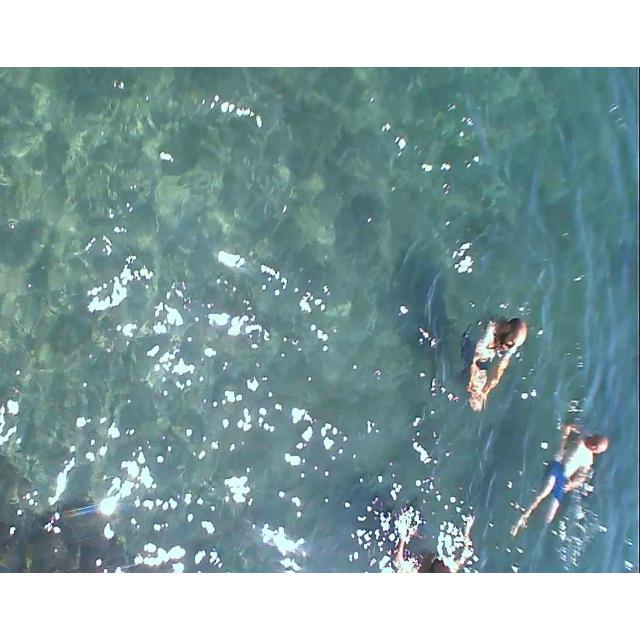human: (519, 418, 610, 538), (460, 290, 526, 422)
